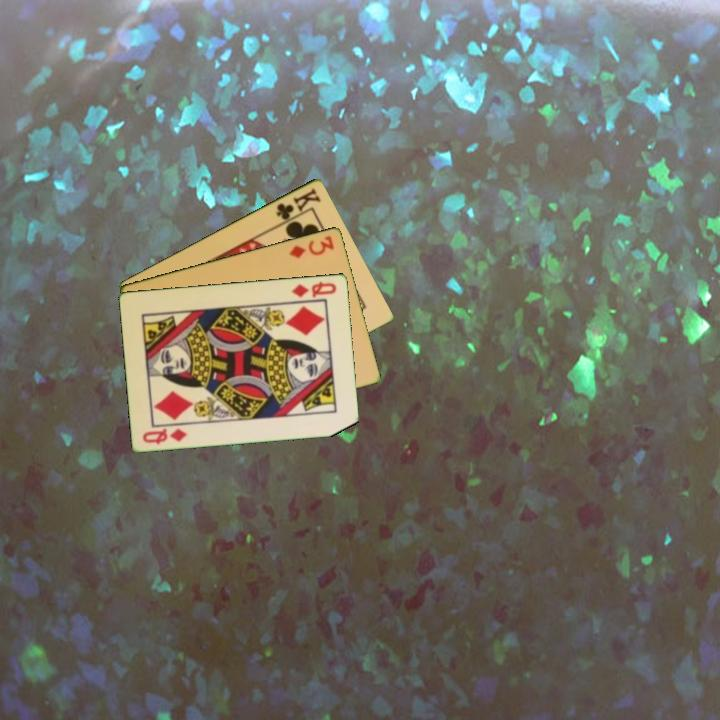3d: (286, 232, 337, 261)
Kc: (272, 184, 324, 227)
Qd: (288, 277, 340, 300), (139, 424, 190, 447)
